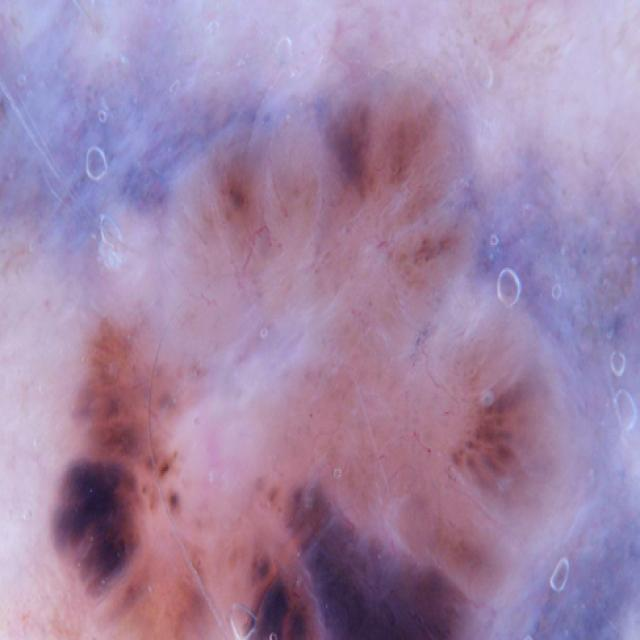Carcinoma: (32, 53, 590, 640)
